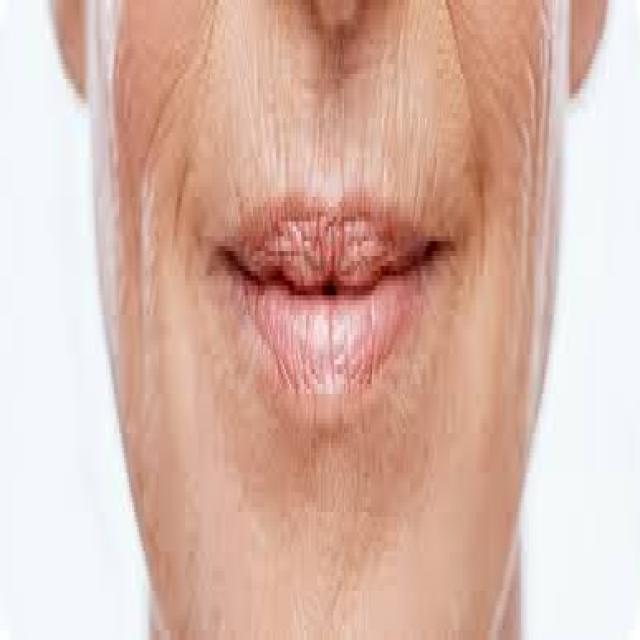Wrinkles: (133, 1, 215, 392), (446, 0, 486, 285)
